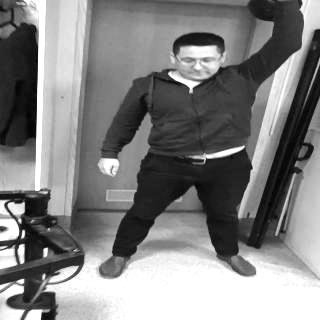kettlebell: (245, 1, 302, 24)
